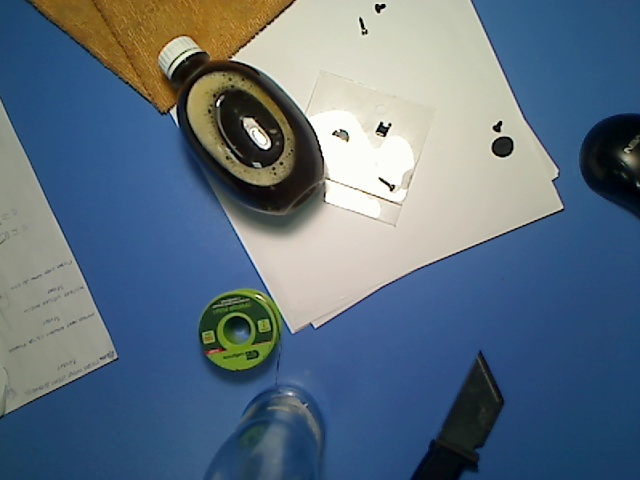plast_bottle: (152, 28, 329, 222)
